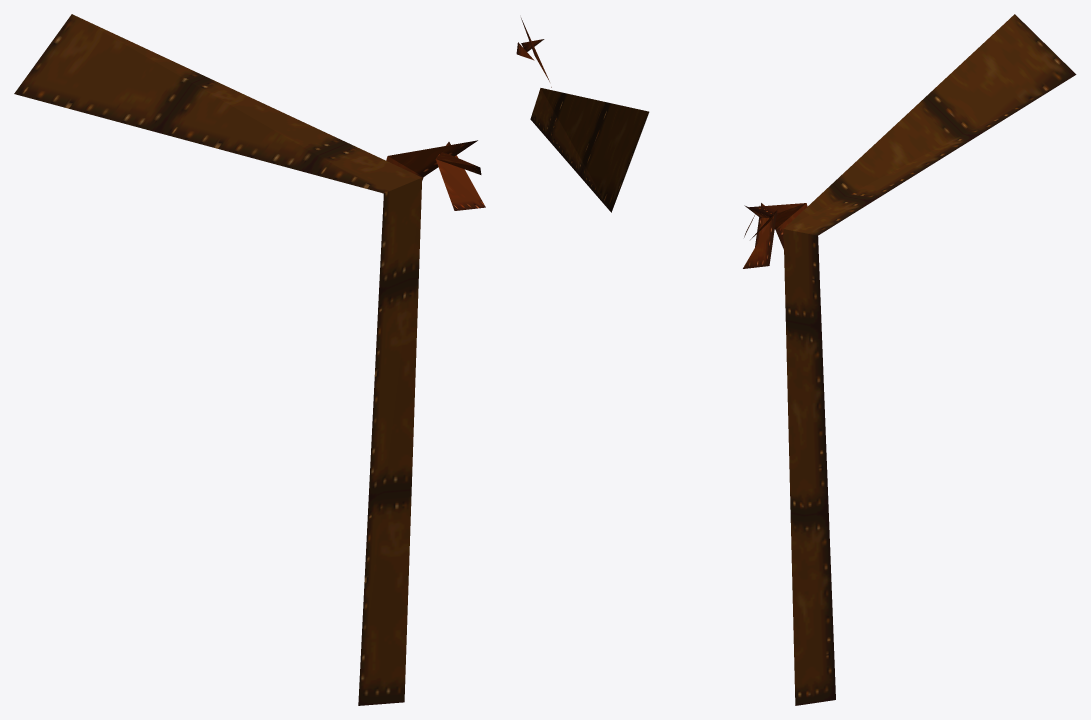
File: Stütze_WinkelHell_892.glb
3 renders of one model, left to right at view 1: azimuth 30°, elevation 25°; view 2: azimuth 150°, elevation 25°; view 3: azimuth 270°, elevation 25°, orthographic. The views are drawn at different scales.
Parts seen in each view (by area): view 1: pPlaneShape69, pPlaneShape72, pPlaneShape71; view 2: pPlaneShape69; view 3: pPlaneShape69, pPlaneShape72, pPlaneShape71.
Part boxes in pixels (x1=…): pPlaneShape69: x1=14, y1=14, x2=422, y2=705; pPlaneShape72: x1=435, y1=142, x2=485, y2=210; pPlaneShape71: x1=383, y1=140, x2=477, y2=193; pPlaneShape69: x1=530, y1=88, x2=649, y2=212; pPlaneShape69: x1=783, y1=14, x2=1076, y2=705; pPlaneShape72: x1=743, y1=203, x2=777, y2=268; pPlaneShape71: x1=744, y1=203, x2=807, y2=249.
Bounding box in the file's own units: 0.3841 × 0.7416 × 0.376.
3 materials, 3 textured.
